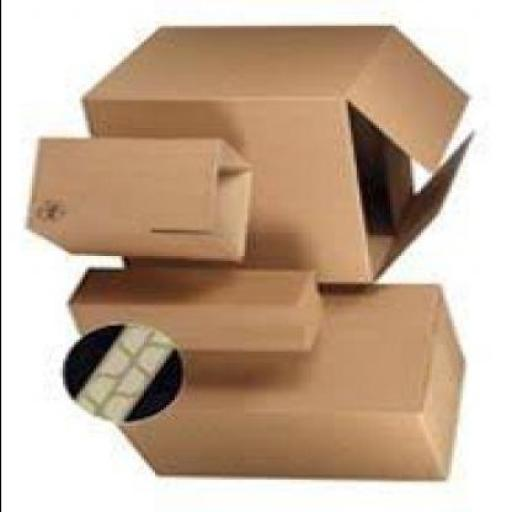cardboard: (87, 28, 473, 286), (121, 288, 470, 482), (26, 140, 257, 262), (70, 268, 330, 354)
